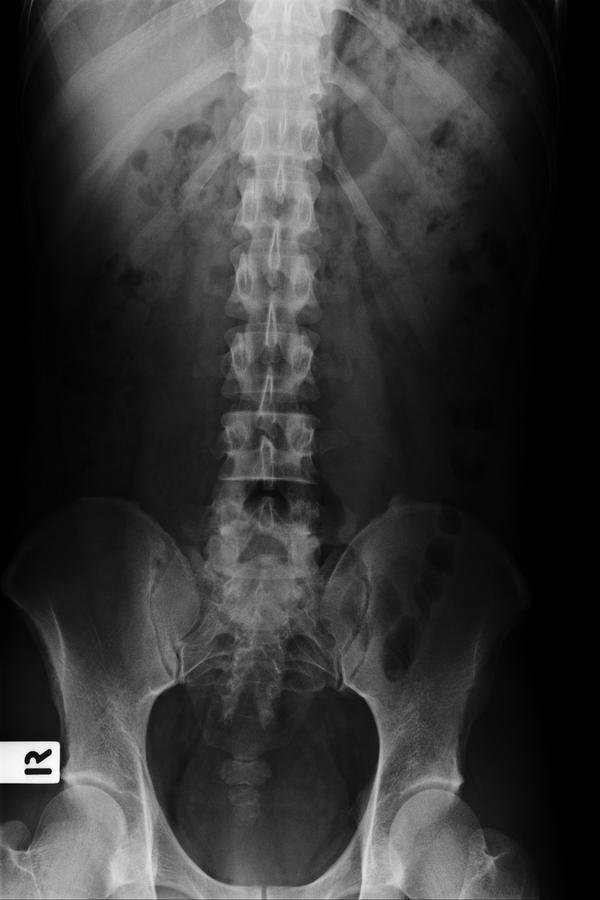lumbar scoliosis: (204, 200, 328, 629)
